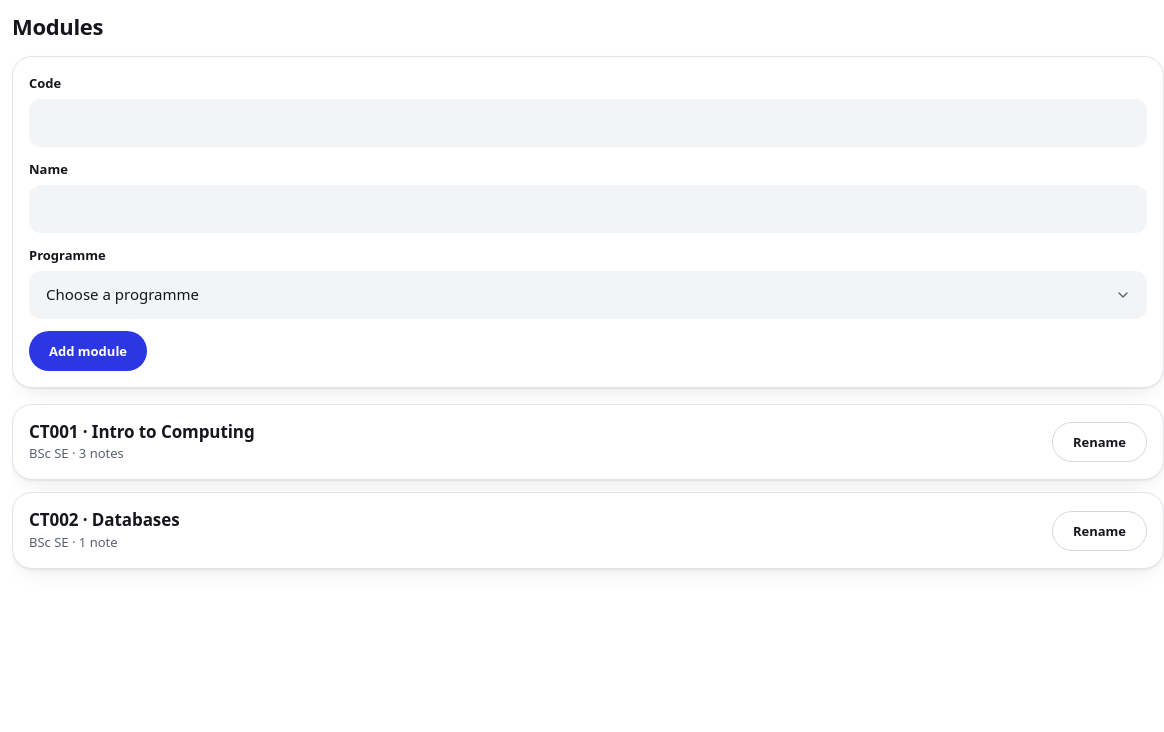
Test: admin modules › CLI-TC90: validation errors from the server show beside their fields
Expected: the text "CT001 · Intro to Computing" is shown, top-left (29, 421), bottom-right (255, 443)
Click the button "Add module": point(88, 351) top-left (29, 331), bottom-right (147, 371)
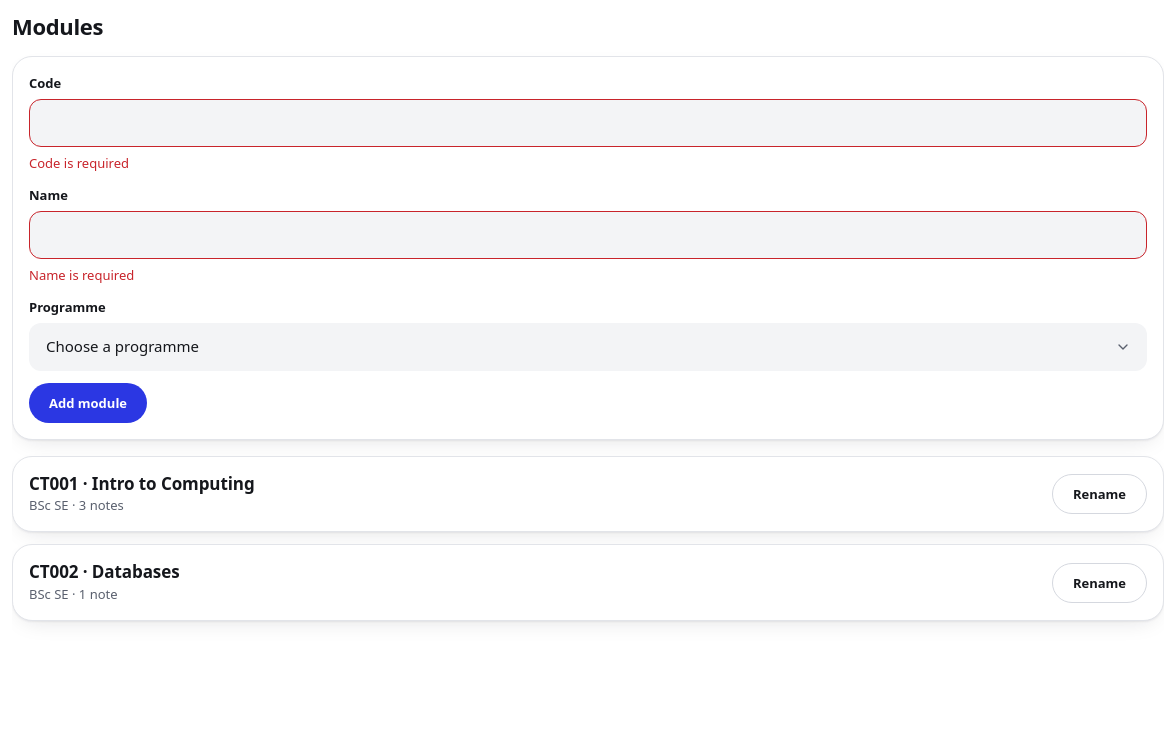
Expected: the text "Code is required" is shown, top-left (29, 154), bottom-right (129, 172)
Expected: the text "Name is required" is shown, top-left (29, 266), bottom-right (134, 284)
